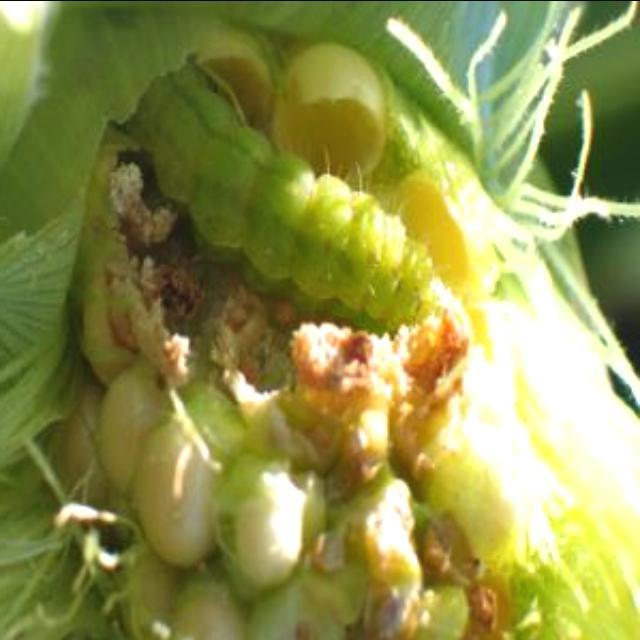Cotton bollworm: (109, 35, 505, 397)
